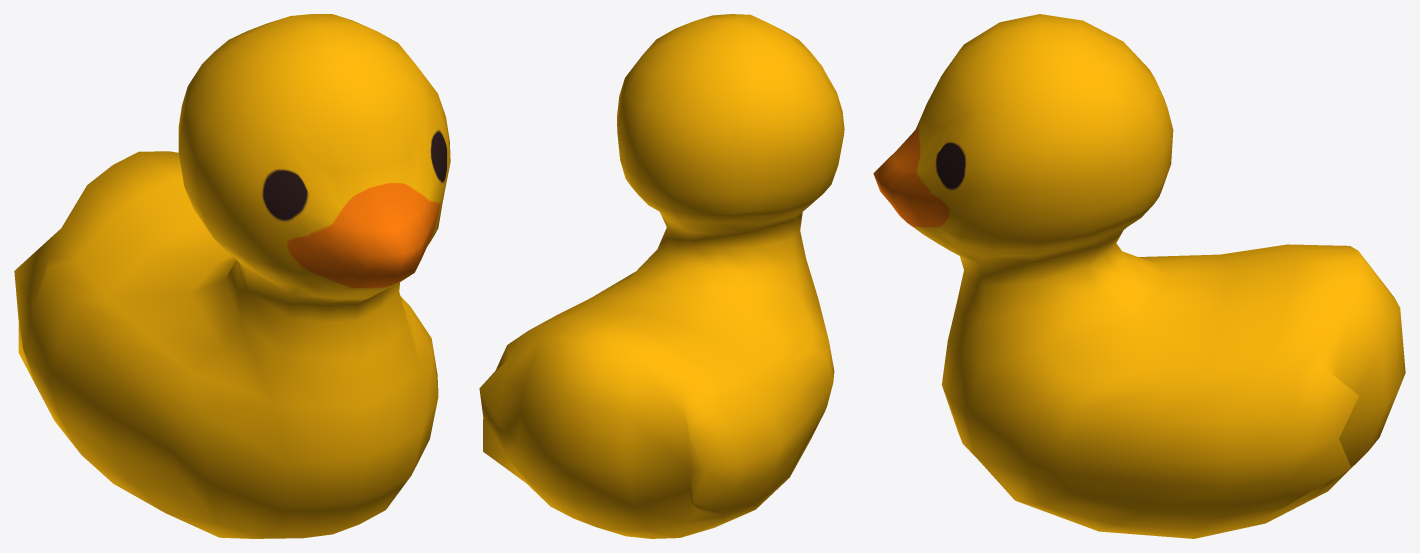
File: rubberduck.fbx
3 renders of one model, left to right at view 1: azimuth 30°, elevation 25°; view 2: azimuth 150°, elevation 25°; view 3: azimuth 270°, elevation 25°, orthographic. The views are drawn at different scales.
Visible parts, largest first — view 1: Roundcube.001; view 2: Roundcube.001; view 3: Roundcube.001.
Part boxes in pixels (left/top/right/bottom): Roundcube.001: left=14, top=14, right=450, bottom=538; Roundcube.001: left=479, top=14, right=844, bottom=538; Roundcube.001: left=873, top=14, right=1405, bottom=538.
Bounding box in the file's own units: 181 × 286 × 277.
